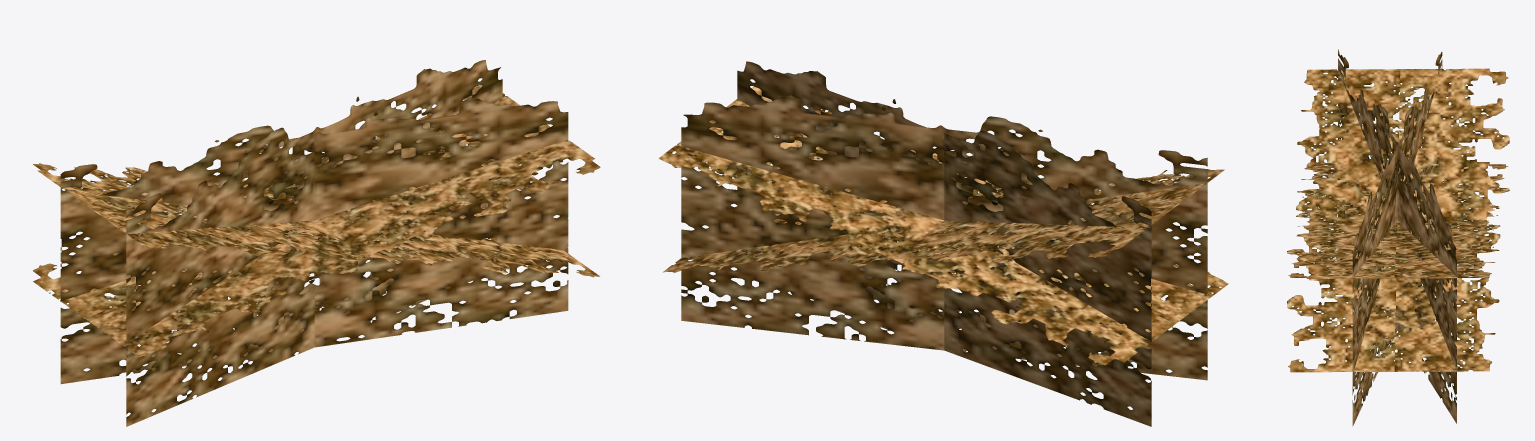
The model's file is bush_long_full_overgrown_autumn.fbx.
The picture shows the model from 3 angles, left to right: view 1: azimuth 30°, elevation 25°; view 2: azimuth 150°, elevation 25°; view 3: azimuth 270°, elevation 25°; orthographic projection. The views are drawn at different scales.
Parts seen in each view (by area): view 1: bush_long_full_overgrown_autumn; view 2: bush_long_full_overgrown_autumn; view 3: bush_long_full_overgrown_autumn.
Part boxes in pixels (<box>): bush_long_full_overgrown_autumn: <box>33,60,600,426</box>; bush_long_full_overgrown_autumn: <box>658,61,1228,426</box>; bush_long_full_overgrown_autumn: <box>1287,49,1509,426</box>.
Bounding box in the file's own units: 200 × 106 × 108.
1 material, 1 textured.
